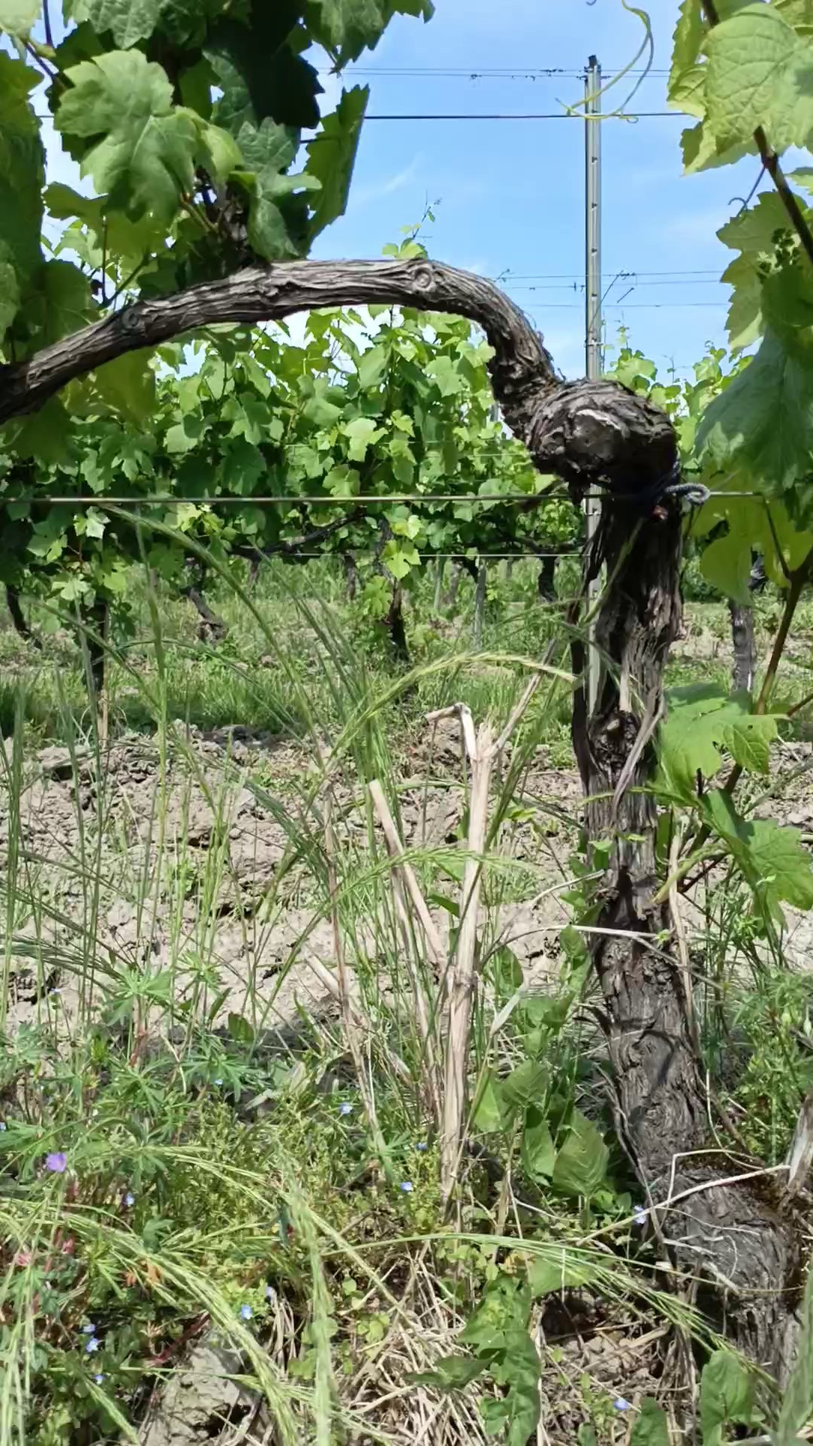vine_trunk: (478, 297, 795, 1373)
